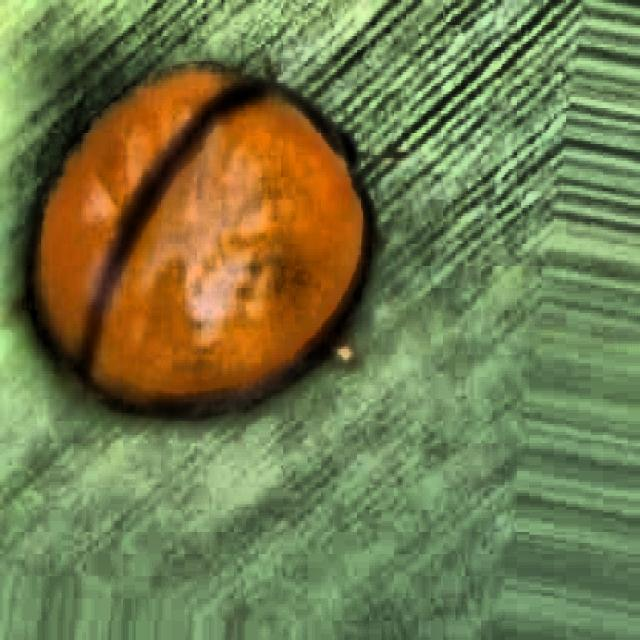Ladybug: (4, 22, 378, 497)
